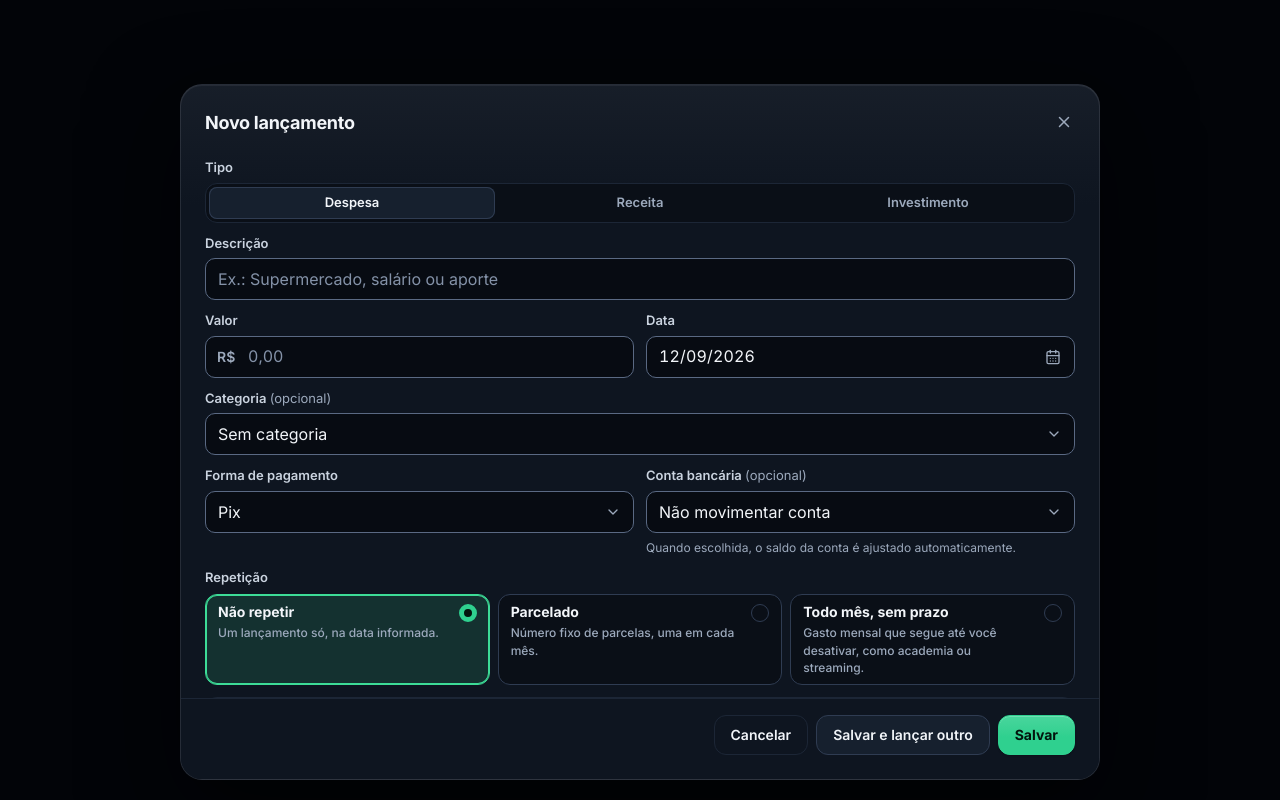
it: CR-15 · formulário enxuto e em sequência › "Salvar e lançar outro" mantém data e forma, limpa o resto e volta o foco à descrição
Type "Padaria" into the field labelled "Descrição" at [640, 279], box [205, 258, 1075, 300]
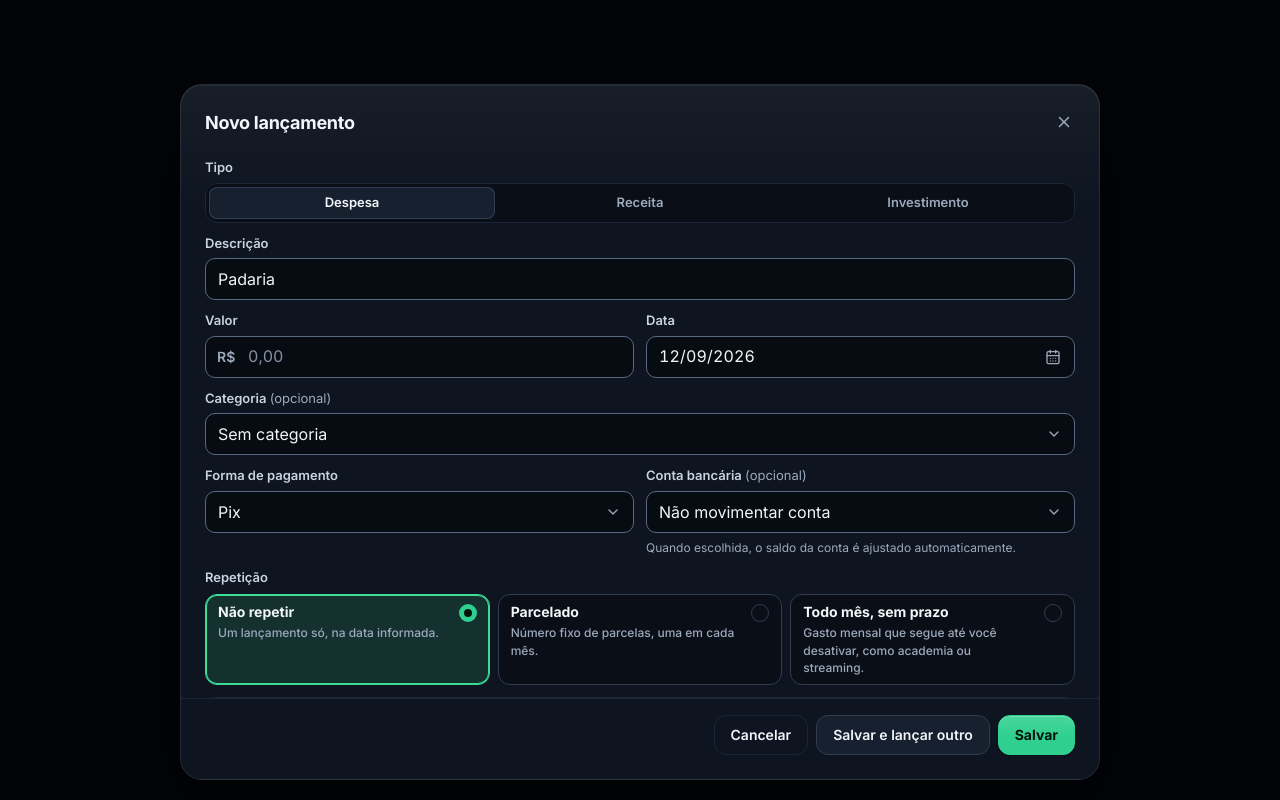
Type "12,50" into the field labelled "Valor" at [420, 357], box [205, 336, 634, 378]
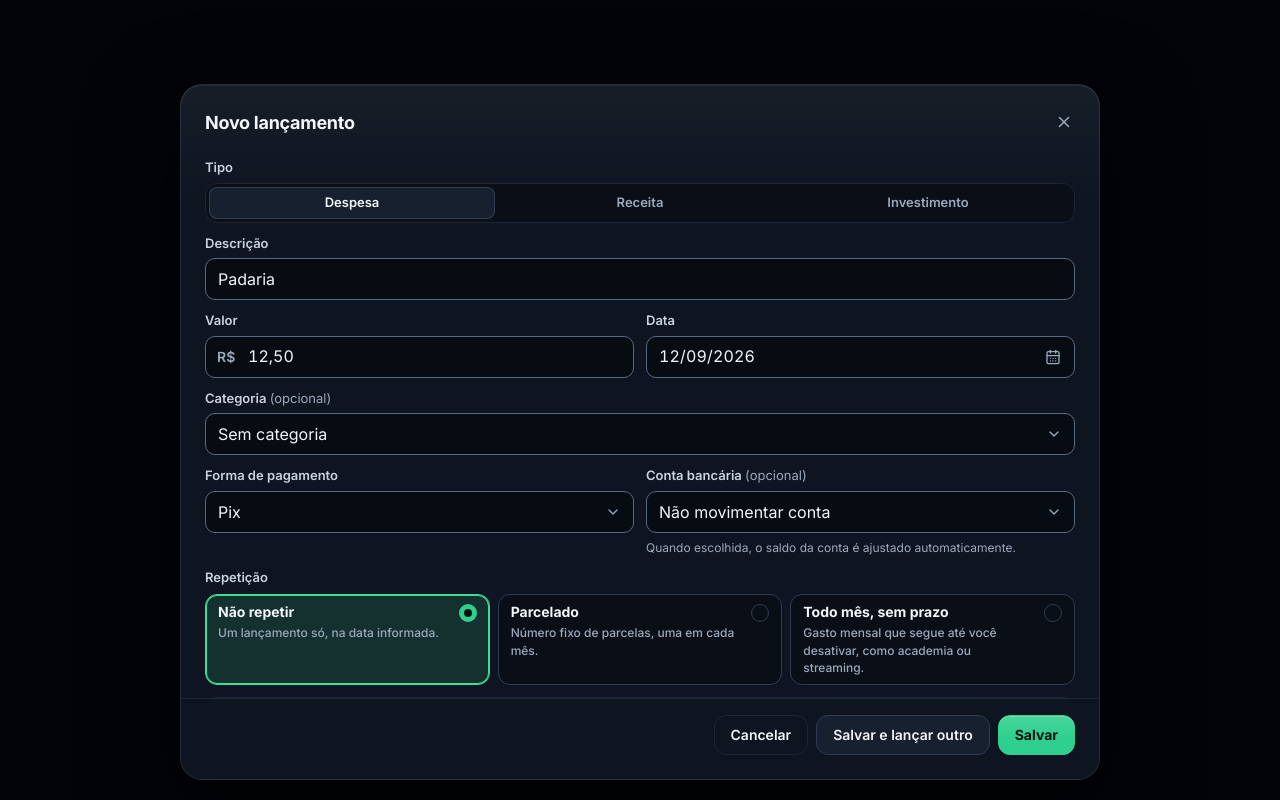
Click the dropdown named "Categoria (opcional)" at [273, 434], box [205, 413, 1075, 455]
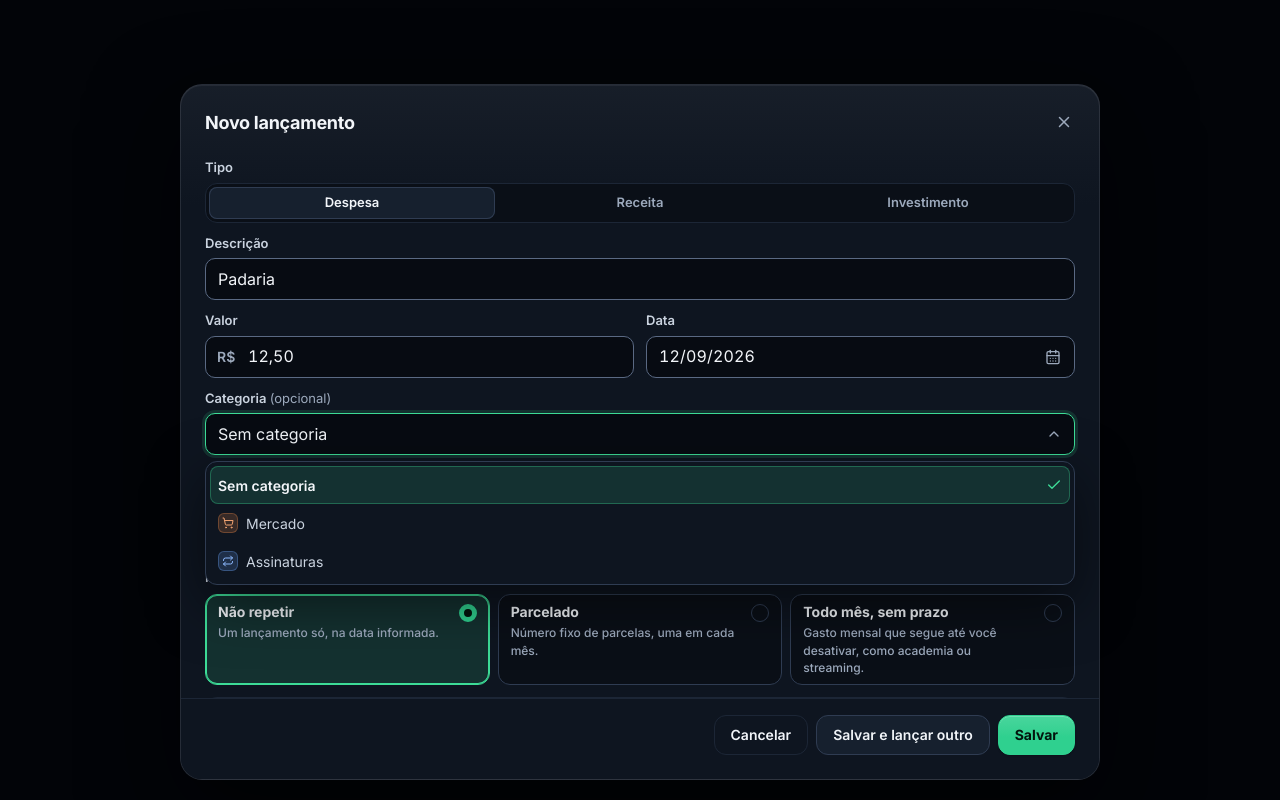
Click the option "Mercado" at [261, 523], box [218, 513, 305, 533]
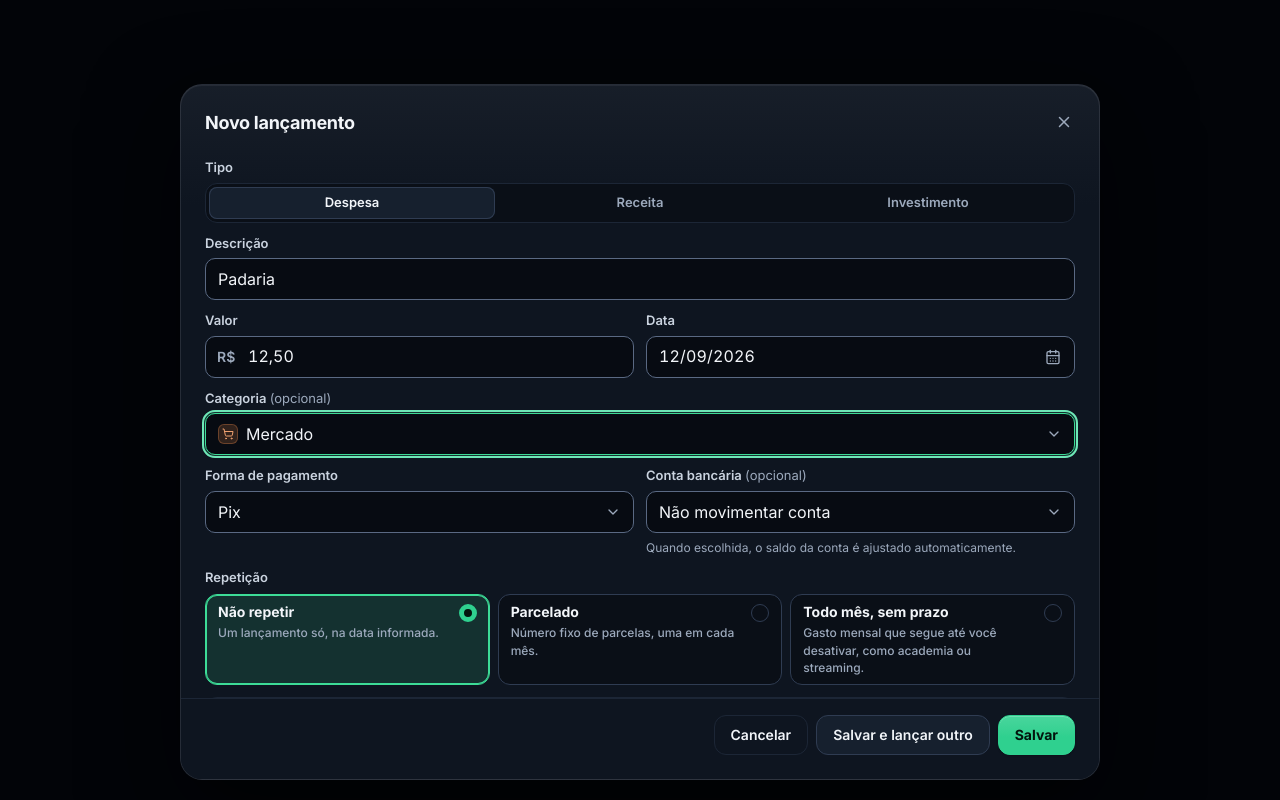
Click the button "Salvar e lançar outro" at [903, 735], box [816, 715, 990, 755]
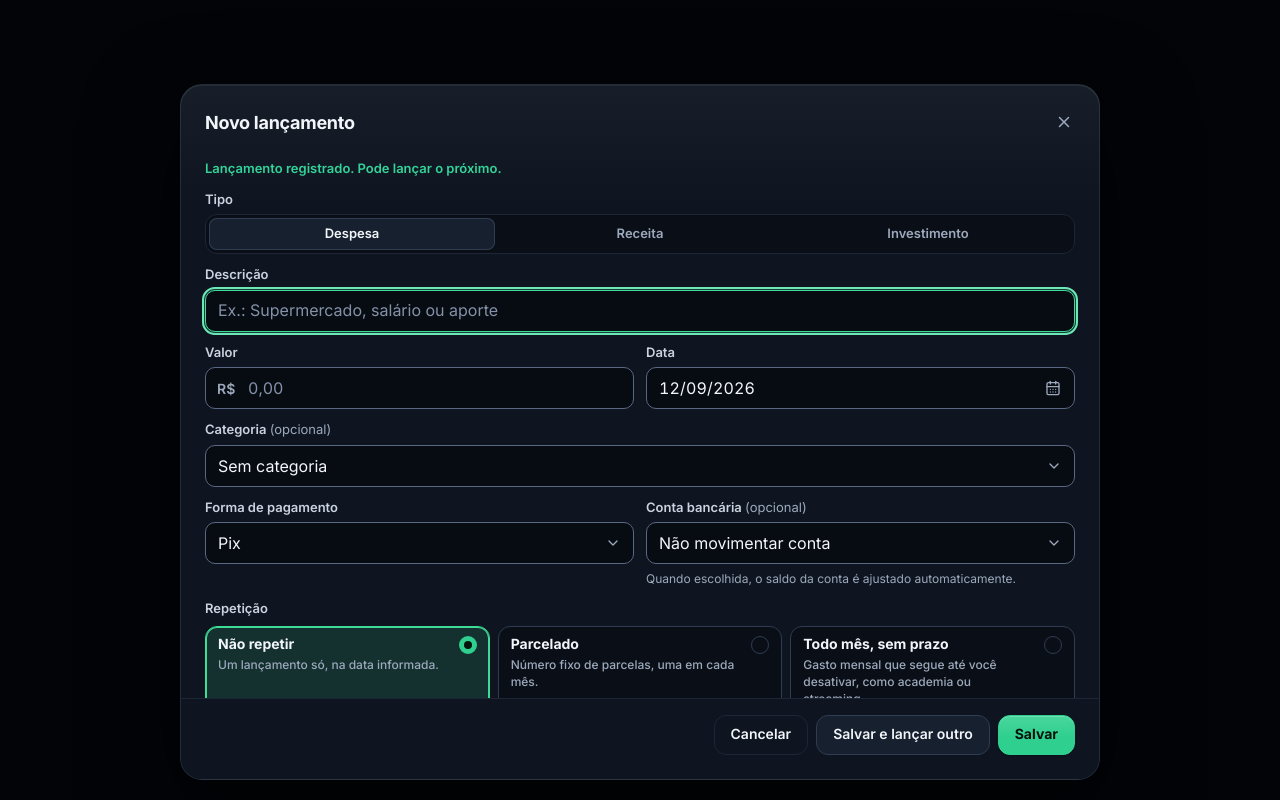
Expected: the field labelled "Descrição" is empty, [205, 290, 1075, 332]
Expected: the field labelled "Valor" is empty, [205, 367, 634, 409]
Expected: the message shows "Lançamento registrado.", [205, 160, 502, 176]
